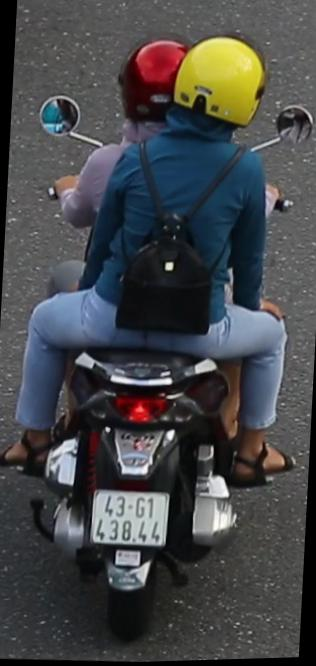LP: (86, 482, 174, 555)
helmet: (168, 28, 278, 153), (110, 31, 194, 152)
